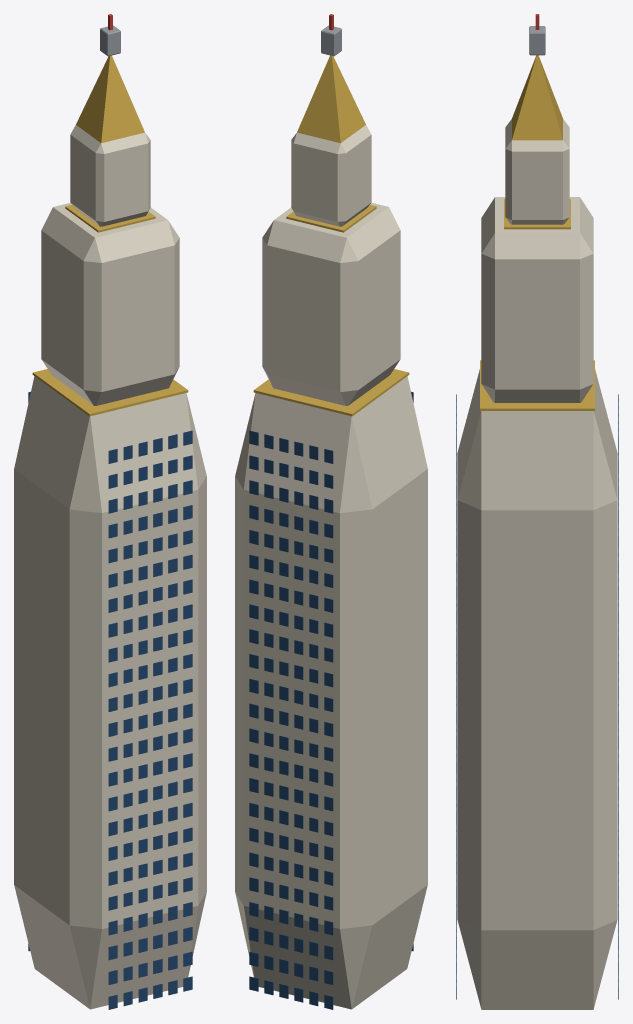
File: tower_deco_h130.glb
3 views of the same model, side by side, from view 1: azimuth 30°, elevation 25°; view 2: azimuth 150°, elevation 25°; view 3: azimuth 270°, elevation 25° (orthographic).
Visible parts, largest first — view 1: t1, t2, t3, pyr, decoband, decoband.001, mast; view 2: t1, t2, t3, pyr, decoband, decoband.001, mast; view 3: t1, t2, t3, pyr, decoband, decoband.001, mast.
Boxes of the visible parts, x1,y1,x2,y2 form: t1: [14, 376, 206, 1009]; t2: [41, 202, 179, 405]; t3: [70, 125, 150, 226]; pyr: [76, 55, 144, 143]; decoband: [32, 369, 188, 416]; decoband.001: [65, 205, 155, 232]; mast: [100, 25, 120, 56]; t1: [235, 376, 427, 1009]; t2: [262, 202, 400, 405]; t3: [291, 125, 371, 226]; pyr: [297, 55, 365, 143]; decoband: [253, 369, 409, 416]; decoband.001: [286, 205, 376, 232]; mast: [321, 25, 341, 56]; t1: [457, 369, 617, 1009]; t2: [481, 197, 593, 402]; t3: [505, 119, 569, 224]; pyr: [512, 55, 562, 140]; decoband: [480, 360, 594, 410]; decoband.001: [504, 199, 570, 229]; mast: [529, 26, 545, 55].
Bounding box in the file's own units: 22 × 147 × 22.34.
